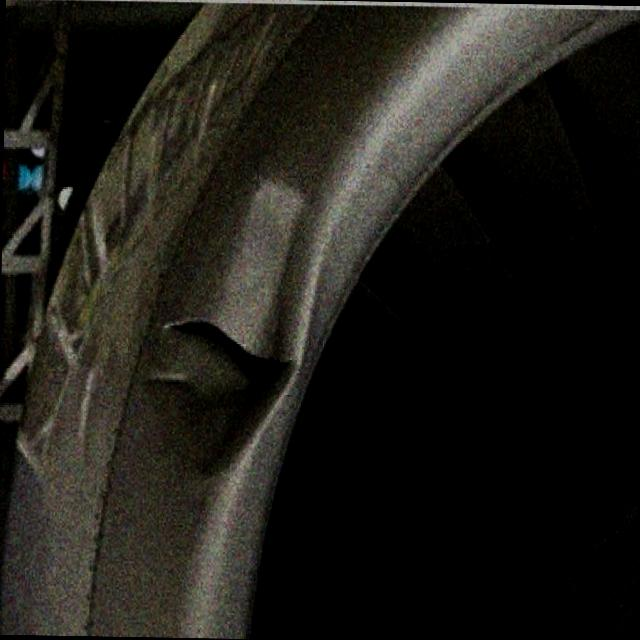crack: (168, 316, 297, 398)
